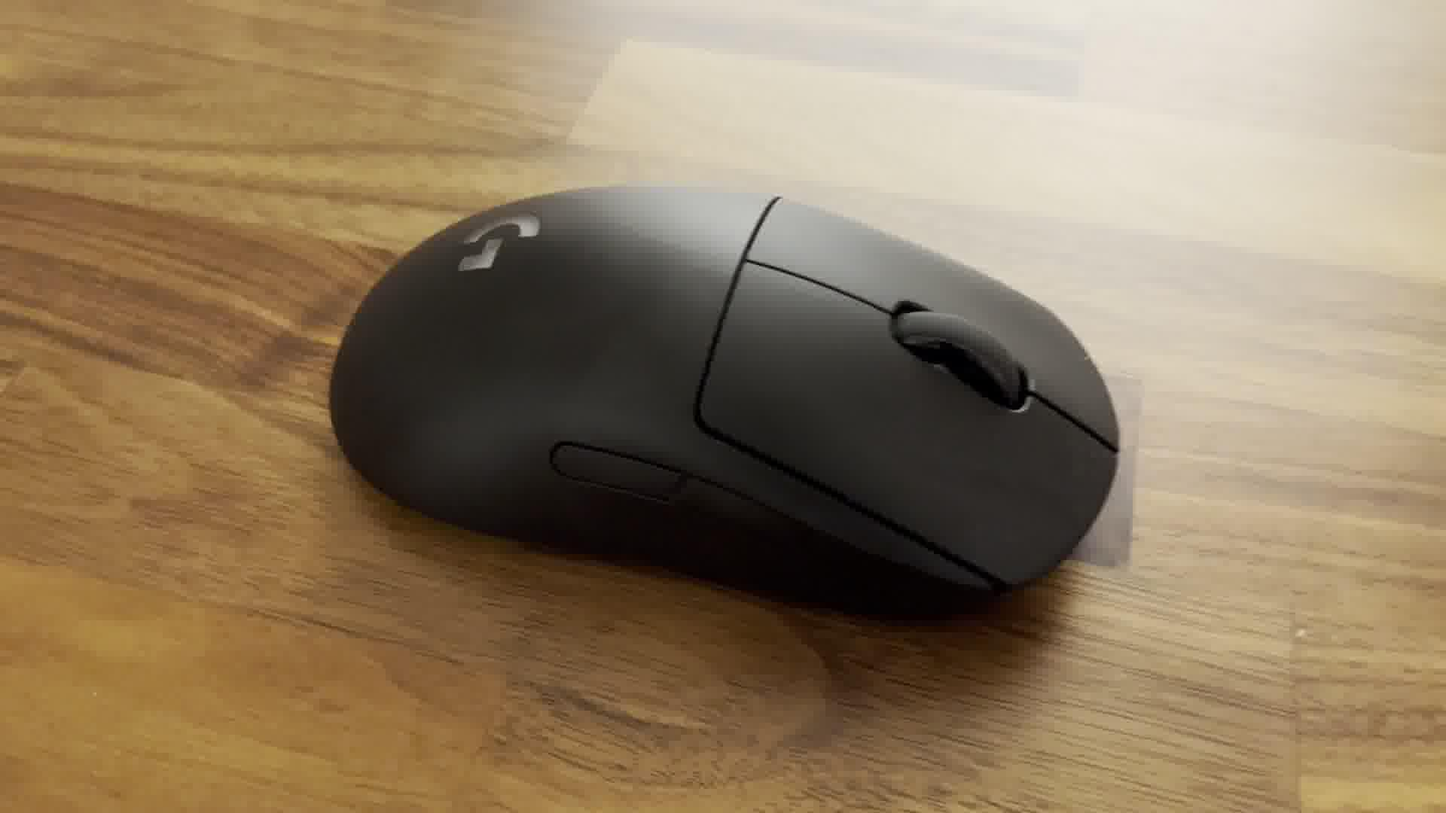logicool: (327, 181, 1123, 624)
